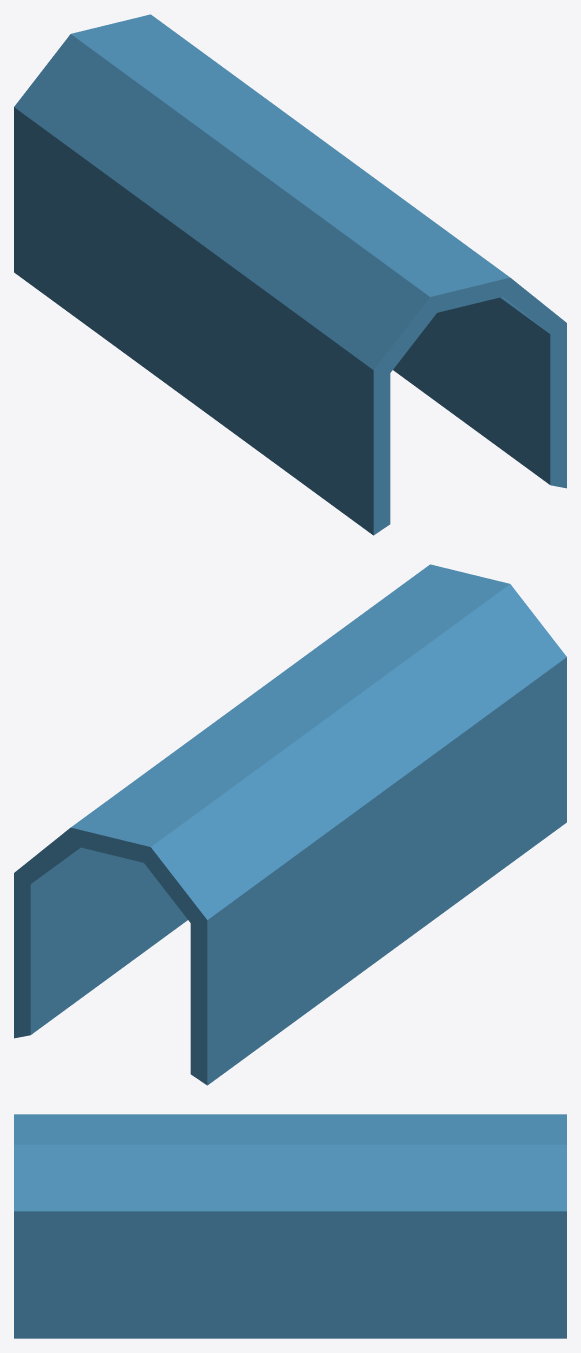
File: HallwayStraigheUVed1.fbx
3 views of the same model, one above another, from view 1: azimuth 30°, elevation 25°; view 2: azimuth 150°, elevation 25°; view 3: azimuth 270°, elevation 25° (orthographic). The views are drawn at different scales.
Visible parts, largest first — view 1: BasicHallwayF; view 2: BasicHallwayF; view 3: BasicHallwayF.
Boxes of the visible parts, x1=… form: BasicHallwayF: x1=14, y1=14, x2=566, y2=535; BasicHallwayF: x1=14, y1=564, x2=566, y2=1085; BasicHallwayF: x1=14, y1=1114, x2=566, y2=1338.
Bounding box in the file's own units: 1014 × 1125 × 3264.
